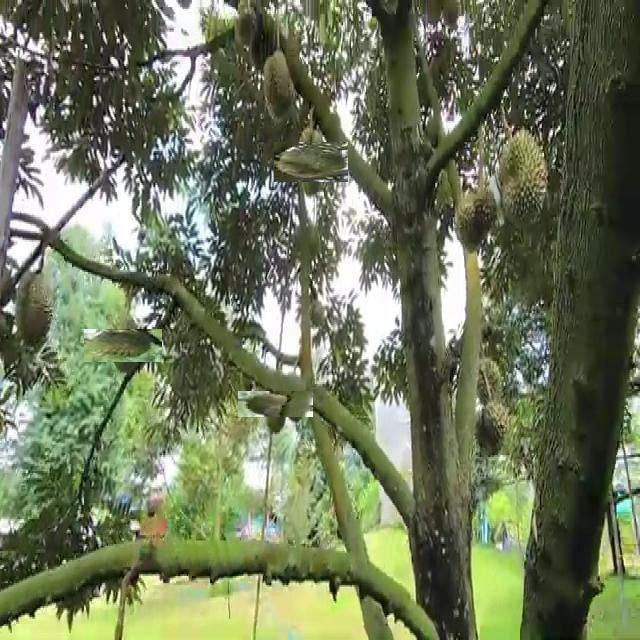durian: (496, 126, 553, 229), (448, 182, 502, 259), (469, 396, 519, 473), (15, 264, 59, 351), (259, 45, 300, 127), (283, 133, 340, 190), (95, 317, 151, 373), (249, 379, 301, 429), (280, 368, 305, 424)
